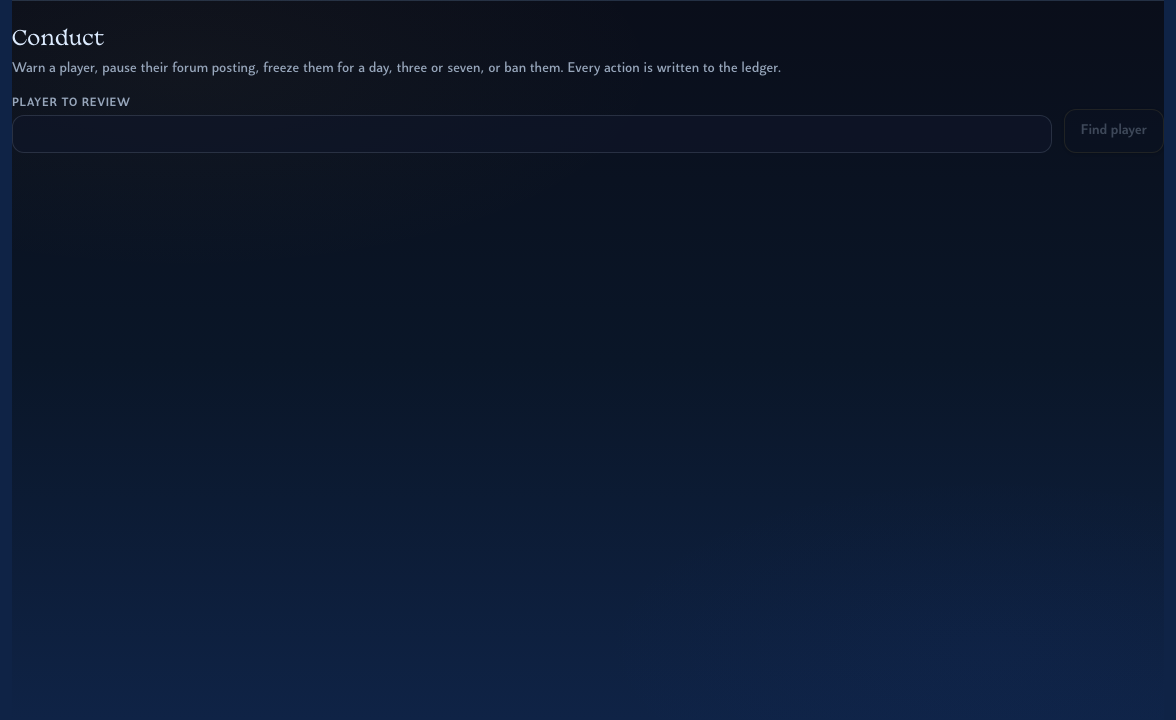
it: StaffLinkedAccounts › lists the accounts on the same device under the player, staff roles named
Type "Willow" into the field labelled "Player to review" at (532, 134), box [12,115,1052,153]
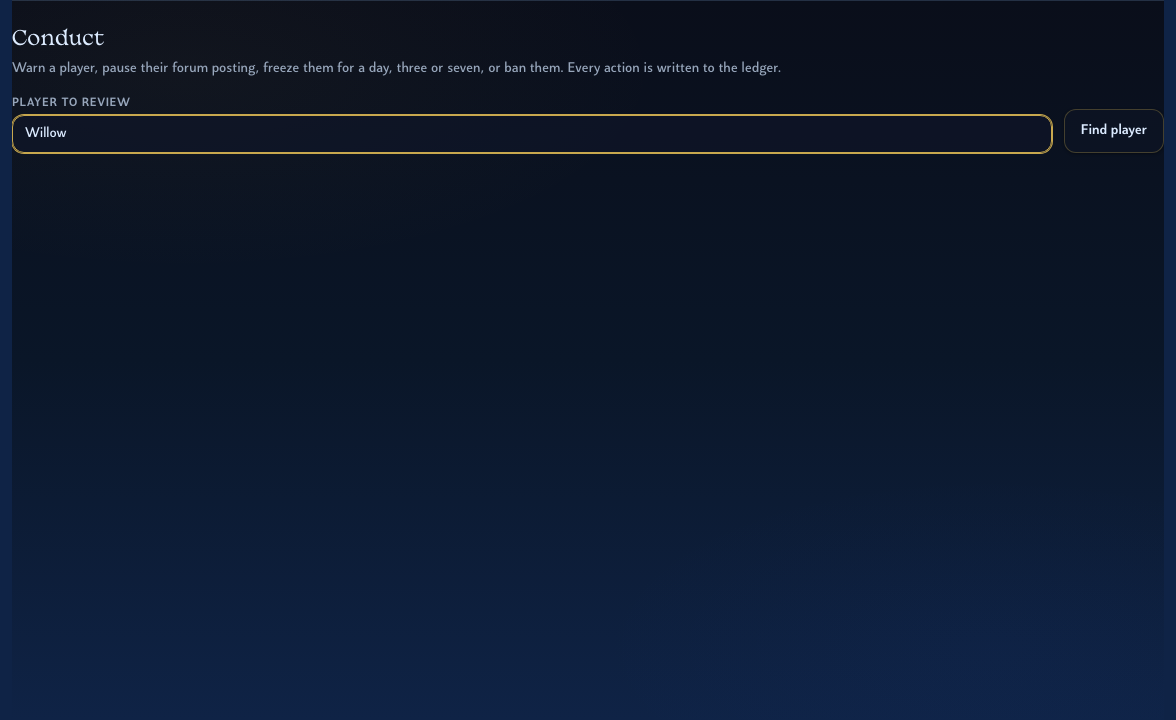
Click the button "Find player" at (1114, 131), box [1064,109,1164,153]
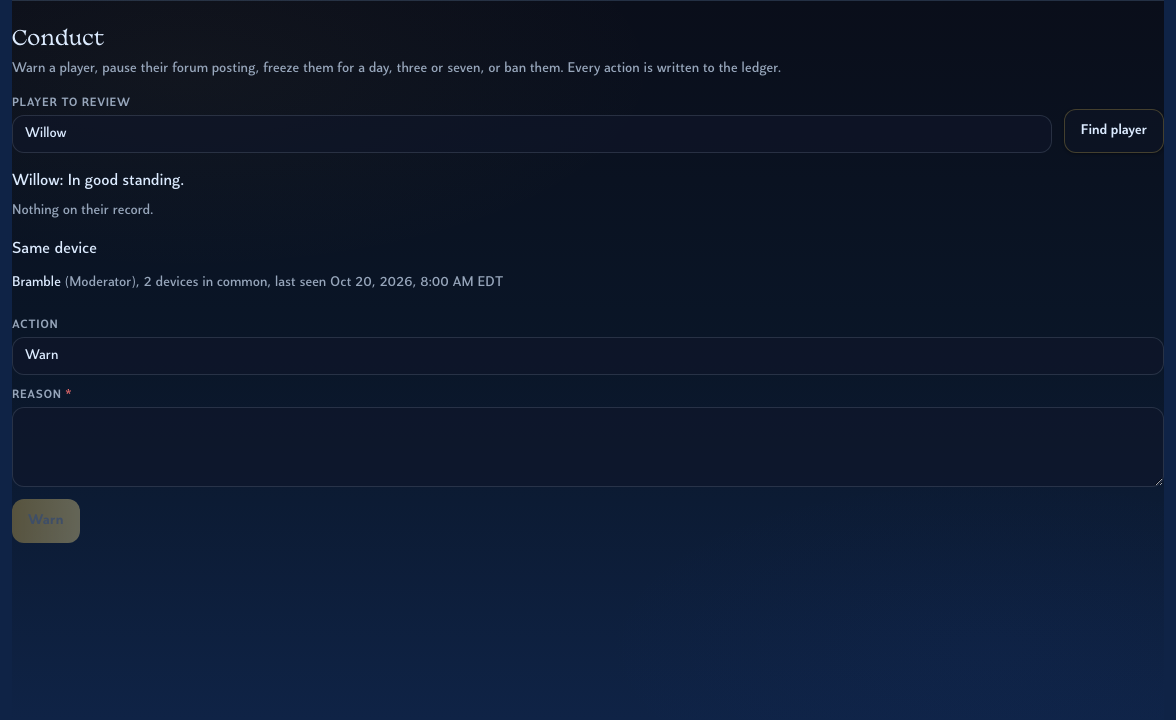
Now the text "Bramble" is shown, box [12,275,61,290]
